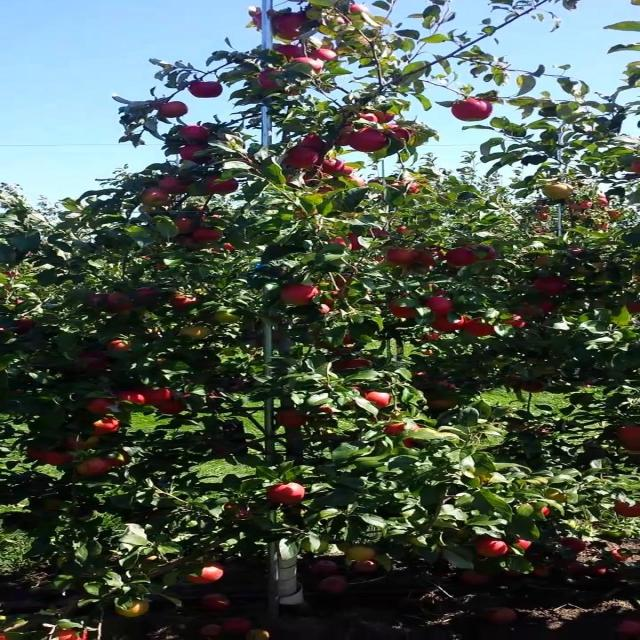apple: (447, 100, 496, 124), (184, 564, 228, 585), (284, 148, 322, 171), (269, 484, 308, 506), (355, 128, 389, 153), (284, 284, 320, 307), (532, 276, 571, 296), (383, 424, 421, 444), (205, 176, 242, 196), (390, 296, 420, 320), (77, 352, 112, 372), (476, 540, 512, 559), (461, 320, 498, 338), (383, 128, 418, 147), (177, 144, 210, 164), (276, 408, 309, 428), (141, 188, 174, 208), (540, 184, 576, 202), (333, 124, 359, 148), (77, 460, 112, 477), (141, 388, 176, 405), (63, 436, 100, 452), (326, 236, 363, 252), (447, 248, 478, 267), (426, 296, 455, 316), (92, 416, 121, 436), (433, 316, 469, 332), (383, 424, 421, 439), (191, 84, 226, 100), (191, 228, 226, 244), (390, 180, 425, 196), (390, 128, 418, 148), (525, 300, 560, 316), (106, 292, 135, 311), (120, 600, 149, 619), (156, 104, 192, 119), (177, 128, 213, 143), (611, 500, 639, 519), (84, 400, 117, 416), (42, 452, 75, 468), (163, 176, 192, 194), (518, 304, 555, 318), (419, 248, 446, 267), (276, 12, 308, 28), (291, 60, 327, 74), (618, 428, 639, 452), (156, 400, 187, 416), (298, 136, 331, 151), (262, 68, 284, 90), (170, 296, 201, 311), (362, 392, 391, 408), (276, 44, 306, 59), (390, 248, 418, 264), (255, 12, 283, 28), (177, 328, 213, 340), (106, 452, 133, 468), (319, 160, 347, 175), (120, 392, 148, 407), (227, 504, 254, 519), (618, 428, 639, 447), (476, 244, 498, 262), (426, 400, 462, 411), (13, 320, 37, 336), (212, 312, 244, 324), (319, 296, 338, 316), (312, 48, 341, 61), (106, 340, 135, 353), (340, 360, 373, 371), (404, 264, 434, 276), (198, 208, 222, 223), (348, 548, 377, 560), (276, 28, 302, 41), (355, 560, 379, 574), (561, 540, 588, 552), (504, 316, 528, 329), (276, 24, 302, 36), (28, 448, 50, 462), (426, 284, 448, 298), (525, 380, 548, 393), (433, 380, 457, 392), (227, 380, 251, 392), (355, 112, 377, 125), (333, 276, 352, 291), (326, 16, 354, 26), (540, 300, 560, 314), (319, 300, 336, 316), (376, 112, 398, 124), (42, 500, 64, 512), (198, 212, 222, 223), (177, 220, 197, 233), (504, 376, 524, 389), (212, 444, 229, 459), (335, 164, 356, 176), (511, 540, 533, 551), (369, 228, 391, 238), (625, 300, 639, 315), (532, 256, 551, 267), (319, 404, 336, 416), (177, 236, 197, 245), (412, 372, 432, 381), (369, 416, 391, 424), (141, 288, 158, 298), (92, 296, 107, 306), (348, 4, 363, 14), (426, 332, 441, 342), (284, 88, 302, 96), (412, 372, 432, 379), (433, 288, 448, 297), (141, 208, 160, 215), (397, 228, 412, 236), (540, 508, 553, 517), (404, 440, 418, 448), (319, 188, 334, 195), (376, 256, 389, 264), (227, 244, 236, 252), (355, 388, 368, 393)
